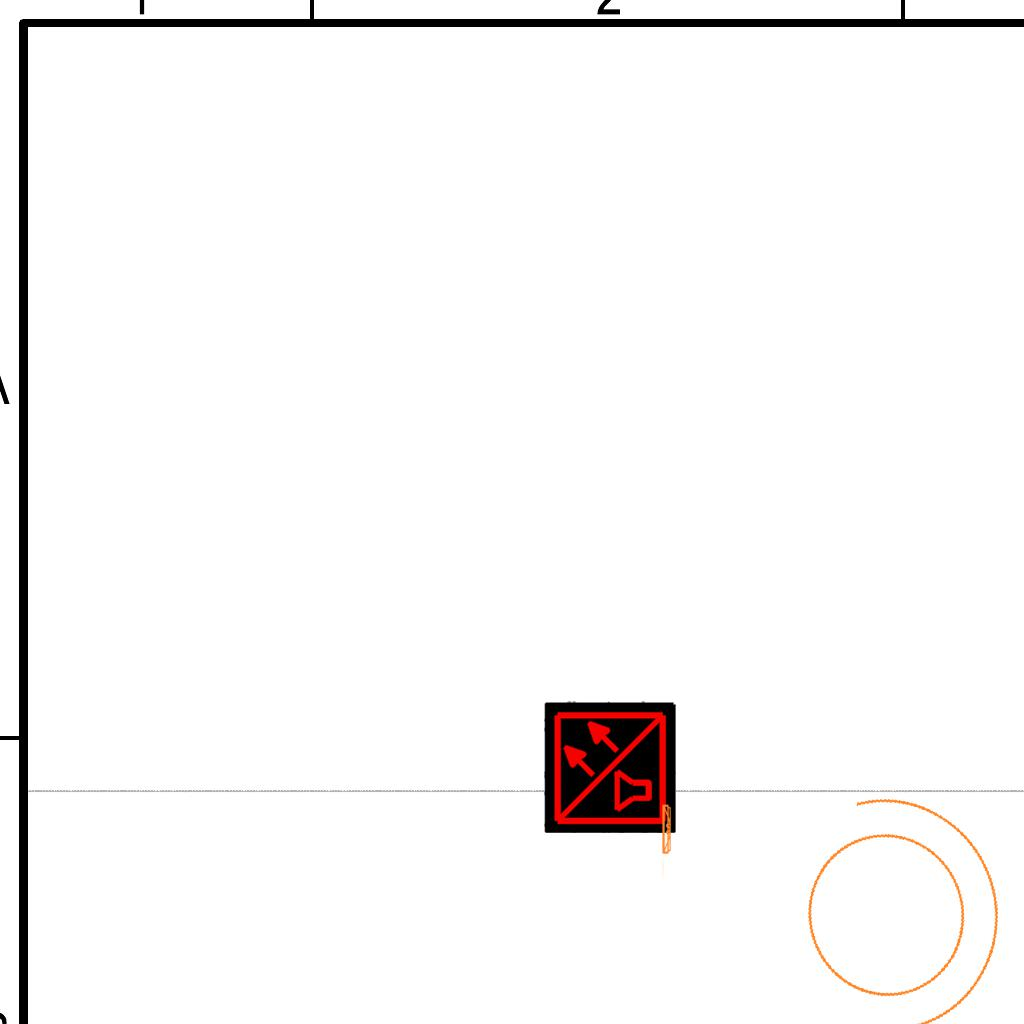OKW_Multisensormelder_(Kombination_optischer_Rauch-Kahlenmonoxid_Waerme-Melder): (544, 701, 676, 833)
Scheinwerfer_fuer_Alarmbeleuchtung: (751, 749, 1024, 1024)
Sicherheitsleuchte_Wandeinbau: (661, 802, 673, 881)
